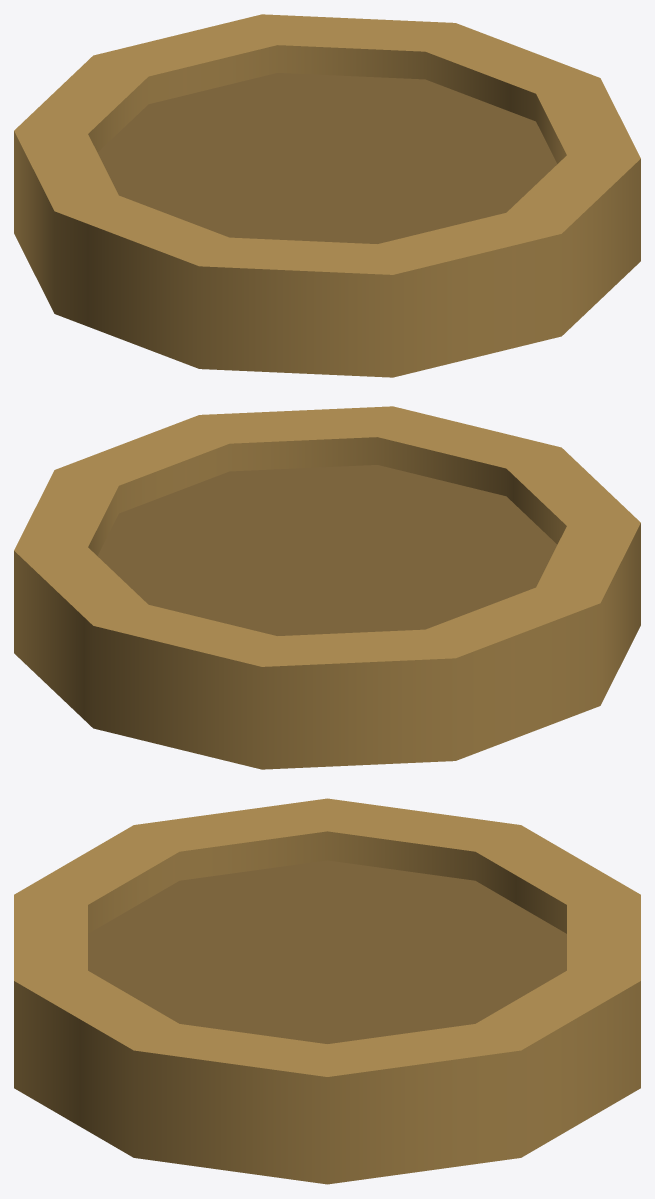
Rendered from Coin_01_Gold.fbx.
The picture shows the model from 3 angles, top to bottom: view 1: azimuth 30°, elevation 25°; view 2: azimuth 150°, elevation 25°; view 3: azimuth 270°, elevation 25°; orthographic projection. The views are drawn at different scales.
Visible parts, largest first — view 1: Coin_01_Gold; view 2: Coin_01_Gold; view 3: Coin_01_Gold.
Boxes of the visible parts, x1,y1,x2,y2 form: Coin_01_Gold: (14,14,640,377); Coin_01_Gold: (14,406,640,769); Coin_01_Gold: (14,798,640,1184).
Size of the model in its own units: 0.0246 by 0.00441 by 0.0234.
